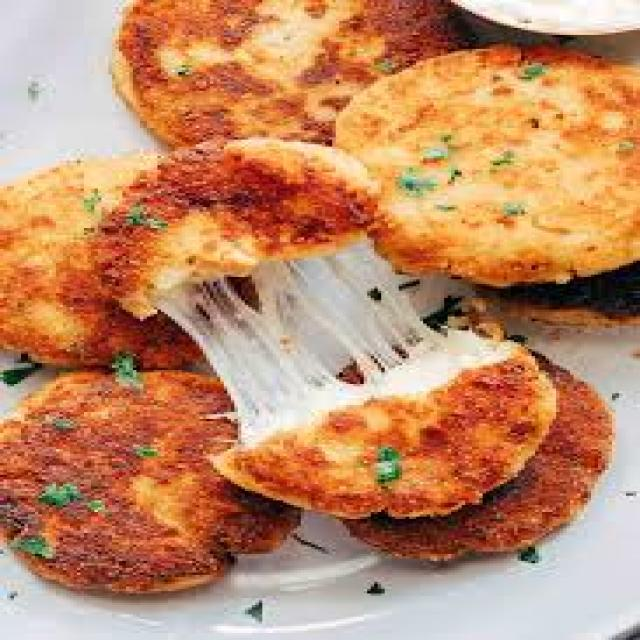organic waste: (84, 133, 553, 516), (328, 37, 636, 284), (318, 326, 612, 558), (0, 366, 301, 591), (105, 0, 472, 158), (0, 158, 255, 367), (462, 258, 636, 330)
